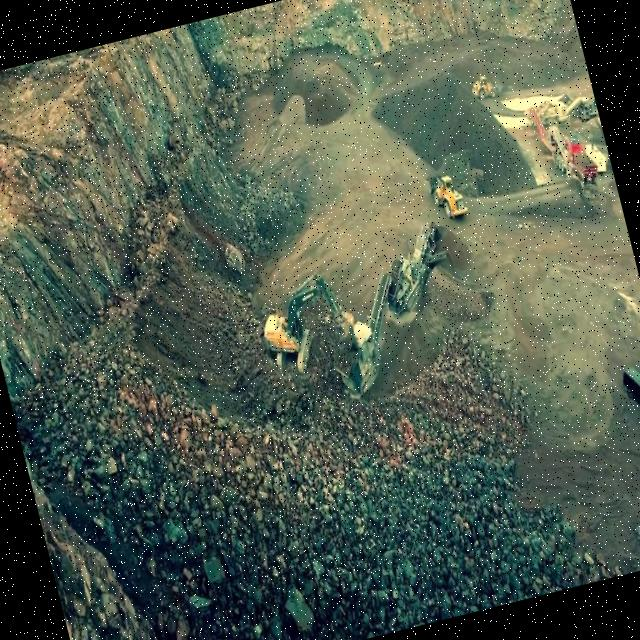Dump Truck: (477, 0, 499, 13)
Excavator: (248, 264, 360, 384)
Loader: (422, 164, 470, 226), (466, 65, 506, 102)
